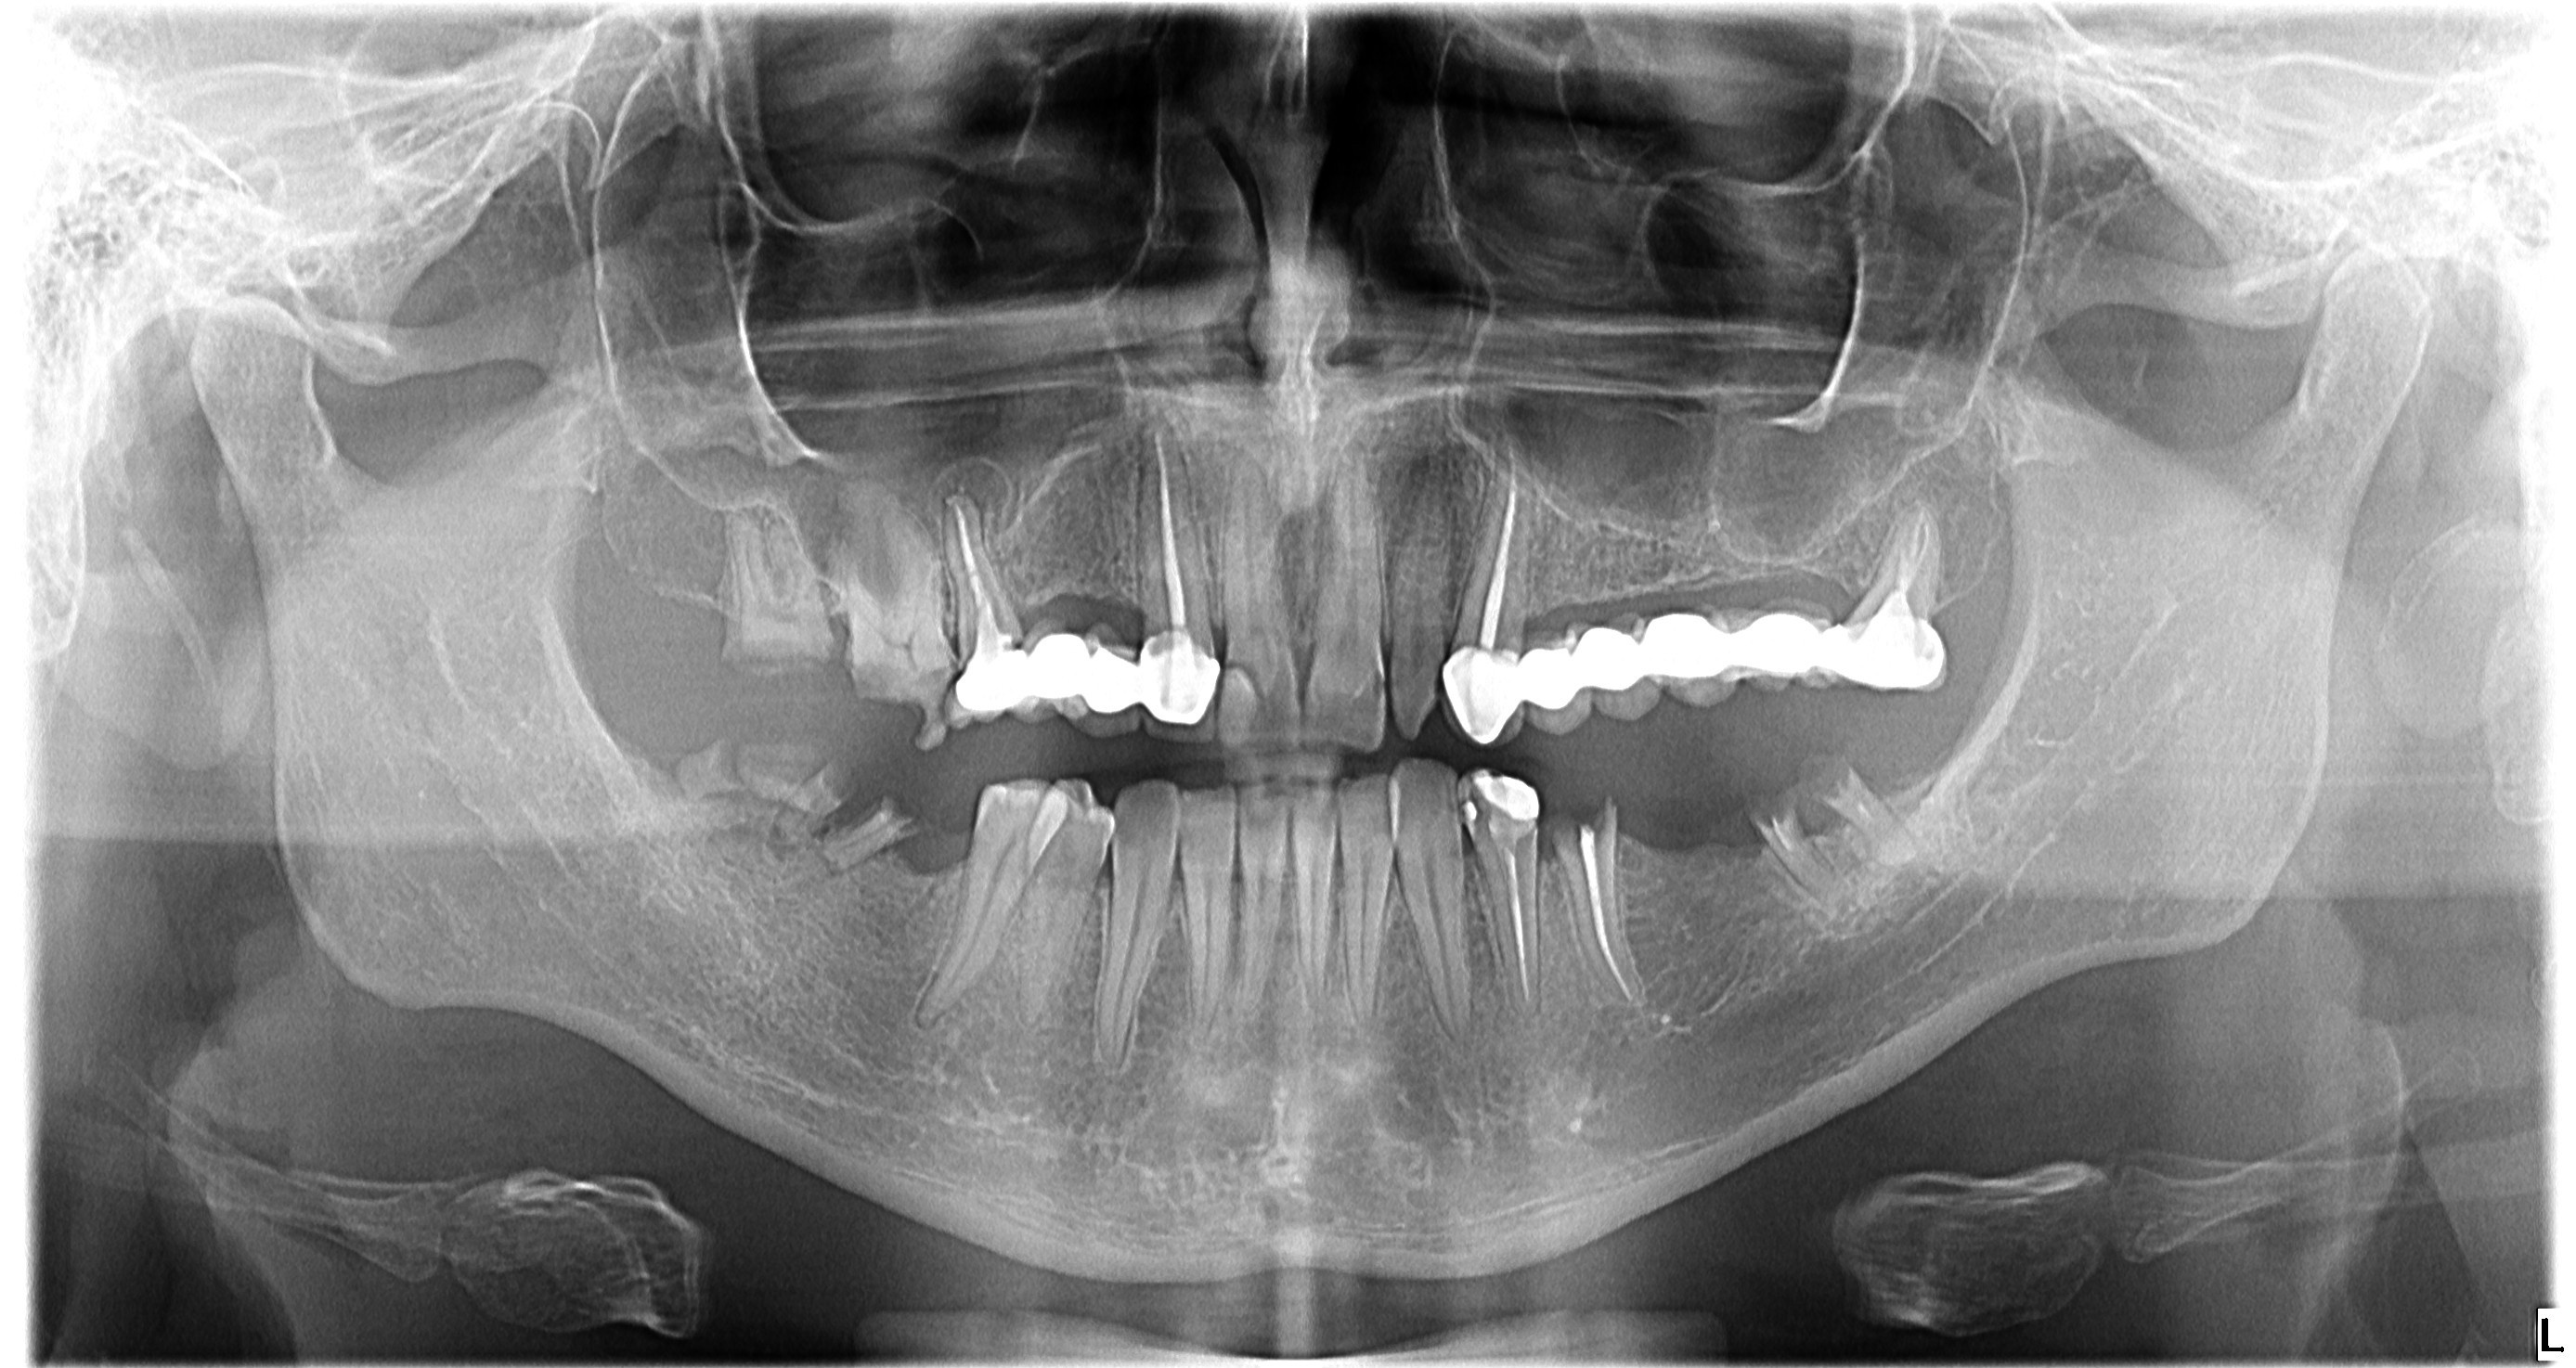API: (939, 450, 1019, 540)
CAR: (831, 646, 968, 753)
END: (1135, 412, 1206, 642), (1469, 458, 1542, 652), (1573, 818, 1636, 1009), (942, 486, 1012, 651), (1484, 845, 1545, 1017), (1888, 503, 1947, 618), (1755, 808, 1804, 872)
OBT: (1460, 762, 1552, 847), (1215, 663, 1269, 741)
PRR: (1576, 606, 1969, 698), (954, 617, 1230, 729), (1441, 642, 1584, 744)
ROT: (826, 479, 957, 705), (705, 494, 838, 690), (1552, 779, 1646, 1019), (1745, 787, 1857, 935), (1796, 755, 1925, 876), (813, 799, 935, 891), (762, 756, 857, 843), (668, 733, 746, 818)
